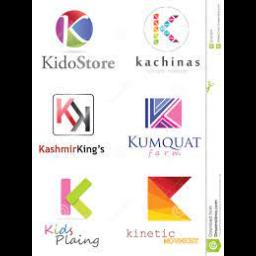k: (48, 10, 104, 52), (58, 174, 102, 224), (143, 8, 185, 48)
